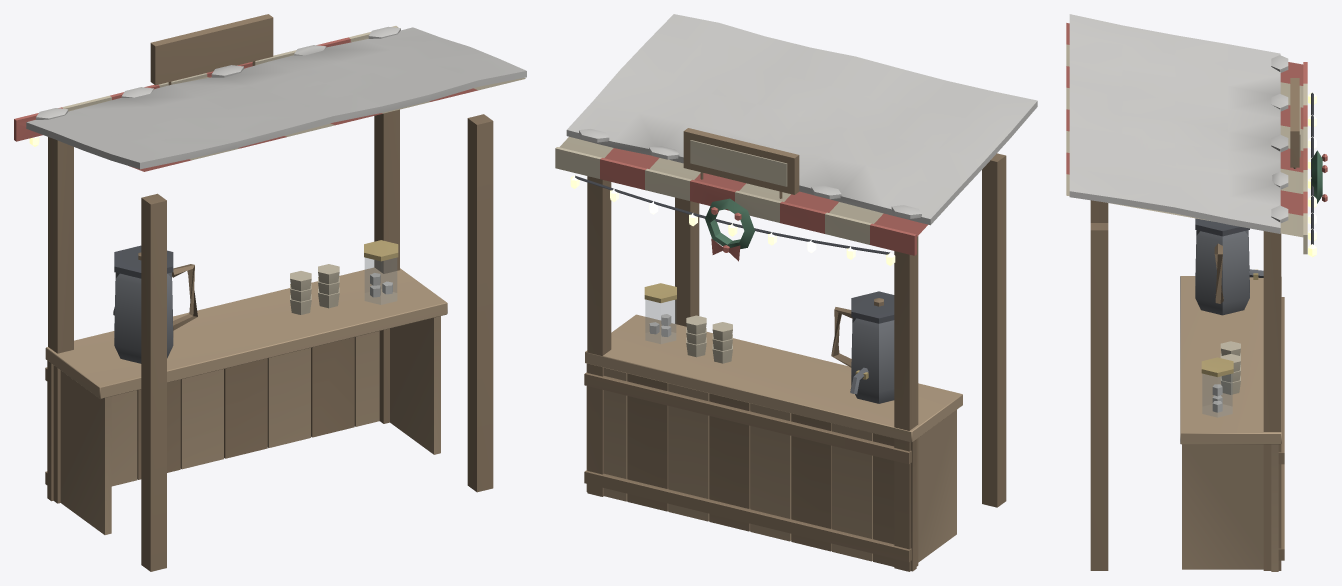
Rendered from market_stall_cocoa_low.glb.
The picture shows the model from 3 angles, left to right: view 1: azimuth 30°, elevation 25°; view 2: azimuth 150°, elevation 25°; view 3: azimuth 270°, elevation 25°; orthographic projection. The views are drawn at different scales.
Parts seen in each view (by area): view 1: market_stall_cocoa; view 2: market_stall_cocoa; view 3: market_stall_cocoa.
Part boxes in pixels (bbox=[...]): market_stall_cocoa: bbox=[14, 14, 526, 571]; market_stall_cocoa: bbox=[555, 14, 1037, 571]; market_stall_cocoa: bbox=[1066, 14, 1327, 571].
Size of the model in its own units: 2.49 by 2.6 by 1.57.
